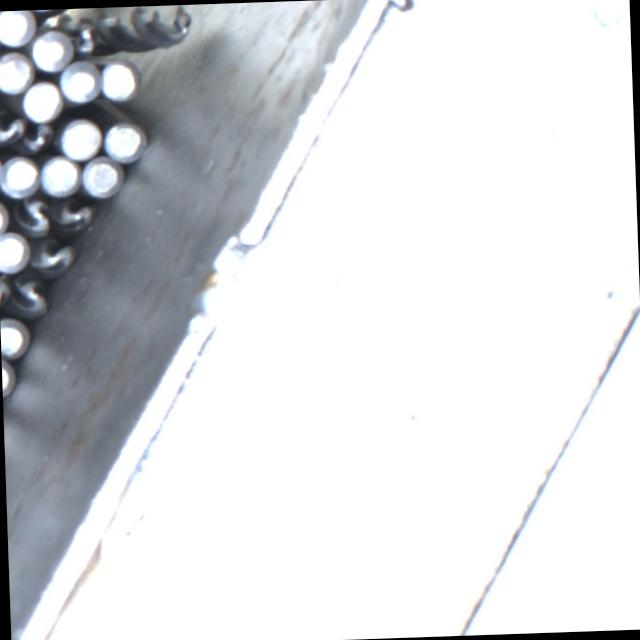tool: (31, 28, 73, 72), (58, 118, 101, 160), (101, 120, 144, 162), (18, 78, 59, 121), (38, 153, 79, 194), (80, 155, 120, 196), (98, 58, 137, 100), (58, 63, 99, 102), (0, 156, 38, 196), (0, 9, 34, 46), (0, 52, 29, 93), (0, 231, 26, 271), (0, 316, 25, 355)
tool_b: (111, 4, 193, 50), (8, 272, 53, 320), (27, 236, 75, 276), (12, 196, 52, 240), (52, 194, 96, 233), (70, 18, 106, 59), (21, 117, 57, 154), (0, 111, 24, 145)
